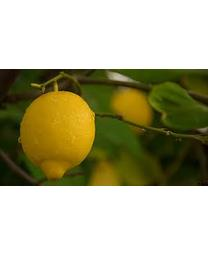lemon: (21, 91, 94, 179)
